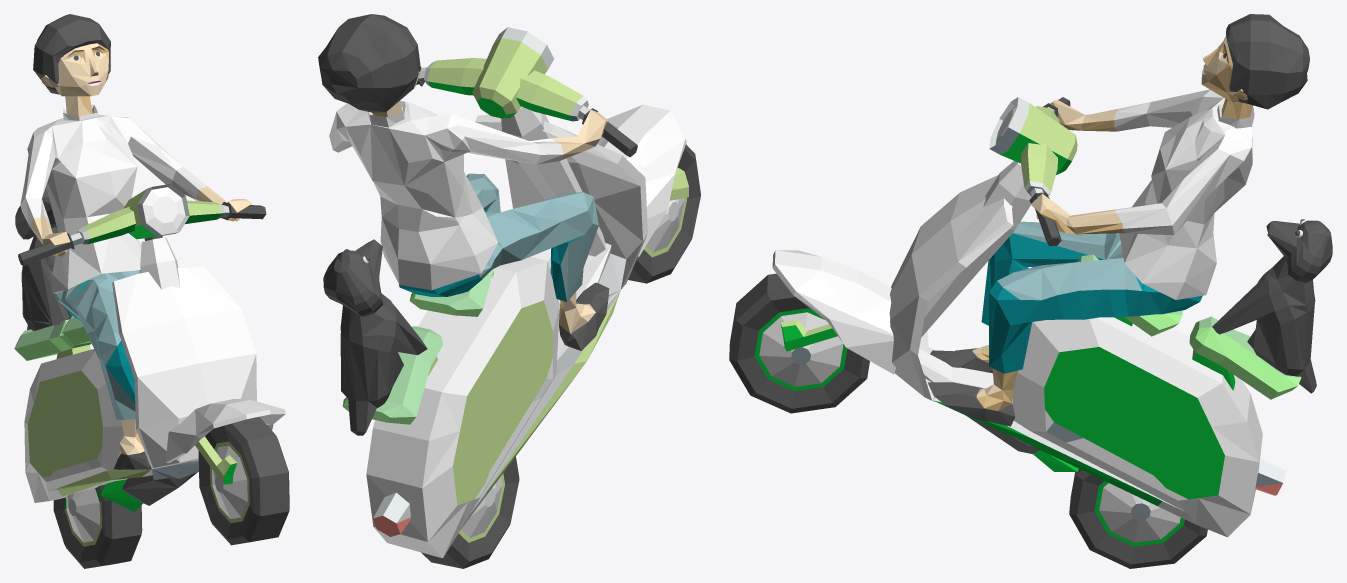
Rendered from scooterY.gltf.
The picture shows the model from 3 angles, left to right: view 1: azimuth 30°, elevation 25°; view 2: azimuth 150°, elevation 25°; view 3: azimuth 270°, elevation 25°; orthographic projection. The views are drawn at different scales.
Parts seen in each view (by area): view 1: group861611824-mat21, group861611824-mat23, group861611824-mat12, group861611824-mat9, group861611824-mat18, group861611824-mat3, group861611824-mat13, group399081721-mat23, group861611824-mat11, group861611824-mat2, group861611824-mat15, group861611824-mat4 (+3 smaller); view 2: group861611824-mat21, group861611824-mat9, group861611824-mat23, group861611824-mat13, group399081721-mat23, group861611824-mat3, group861611824-mat12, group861611824-mat15, group861611824-mat0, group861611824-mat18, group861611824-mat4, group861611824-mat11 (+2 smaller); view 3: group861611824-mat21, group861611824-mat11, group861611824-mat23, group861611824-mat13, group861611824-mat4, group399081721-mat23, group861611824-mat3, group861611824-mat12, group861611824-mat2, group861611824-mat19, group861611824-mat9, group861611824-mat18 (+2 smaller).
Part boxes in pixels (<box>): group861611824-mat21: <box>24,52,285,542</box>; group861611824-mat23: <box>18,14,289,568</box>; group861611824-mat12: <box>20,112,206,293</box>; group861611824-mat9: <box>28,189,249,546</box>; group861611824-mat18: <box>29,43,251,454</box>; group861611824-mat3: <box>56,270,141,419</box>; group861611824-mat13: <box>45,104,197,293</box>; group399081721-mat23: <box>15,187,72,330</box>; group861611824-mat11: <box>64,213,236,511</box>; group861611824-mat2: <box>14,326,91,360</box>; group861611824-mat15: <box>58,184,229,515</box>; group861611824-mat4: <box>59,270,140,403</box>; group861611824-mat21: <box>366,104,686,558</box>; group861611824-mat9: <box>427,37,688,542</box>; group861611824-mat23: <box>318,14,700,568</box>; group861611824-mat13: <box>329,101,532,290</box>; group399081721-mat23: <box>323,239,427,435</box>; group861611824-mat3: <box>466,173,598,301</box>; group861611824-mat12: <box>341,100,563,272</box>; group861611824-mat15: <box>373,27,678,523</box>; group861611824-mat0: <box>348,269,493,417</box>; group861611824-mat18: <box>387,71,609,333</box>; group861611824-mat4: <box>399,206,583,301</box>; group861611824-mat11: <box>427,81,571,121</box>; group861611824-mat21: <box>759,52,1262,542</box>; group861611824-mat11: <box>754,133,1235,546</box>; group861611824-mat23: <box>729,14,1309,568</box>; group861611824-mat13: <box>1114,104,1254,299</box>; group861611824-mat4: <box>981,233,1202,373</box>; group399081721-mat23: <box>1212,219,1332,393</box>; group861611824-mat3: <box>997,221,1141,300</box>; group861611824-mat12: <box>1114,89,1240,262</box>; group861611824-mat2: <box>1077,257,1300,399</box>; group861611824-mat19: <box>977,45,1253,410</box>; group861611824-mat9: <box>780,103,1195,358</box>; group861611824-mat18: <box>972,36,1247,397</box>.
Bounding box in the file's own units: 1.1 × 2.19 × 2.14.
